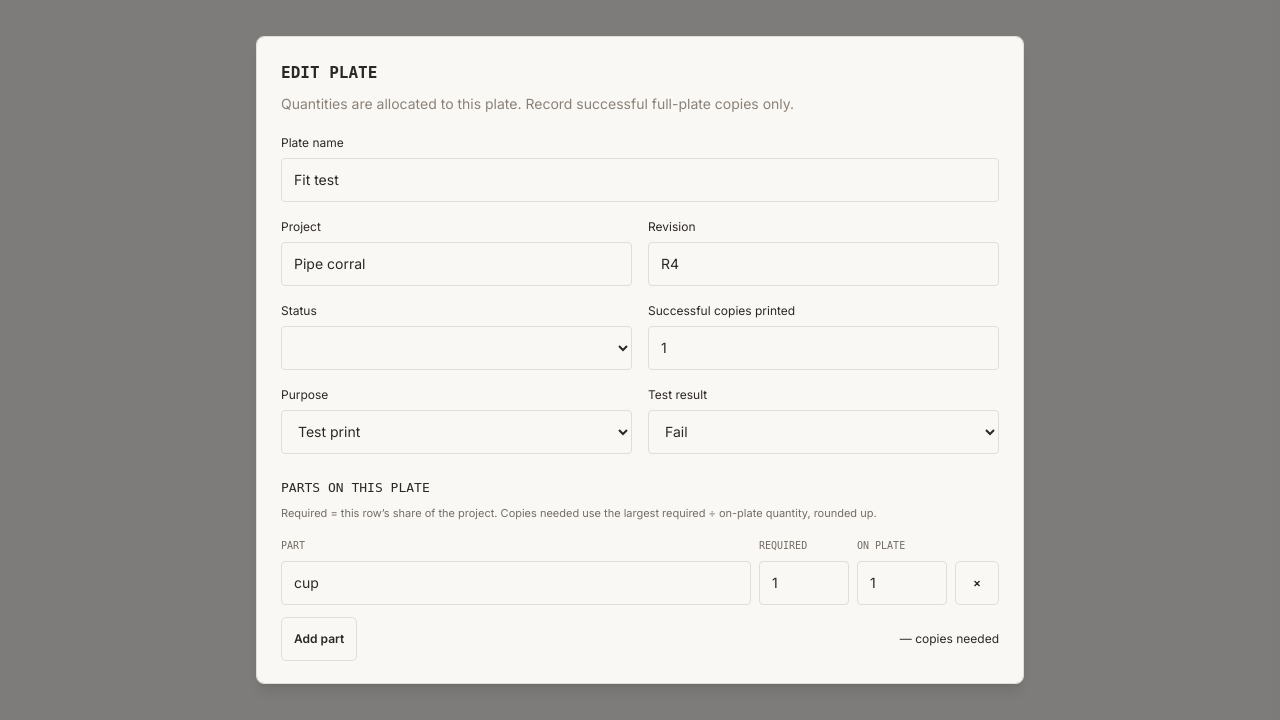
Test: keeps a set test result visible after printed drops to 0 so it can be cleared
Replace the text in the number field labelled "Successful copies printed" with "0" at x=824, y=348, box [648, 326, 999, 370]
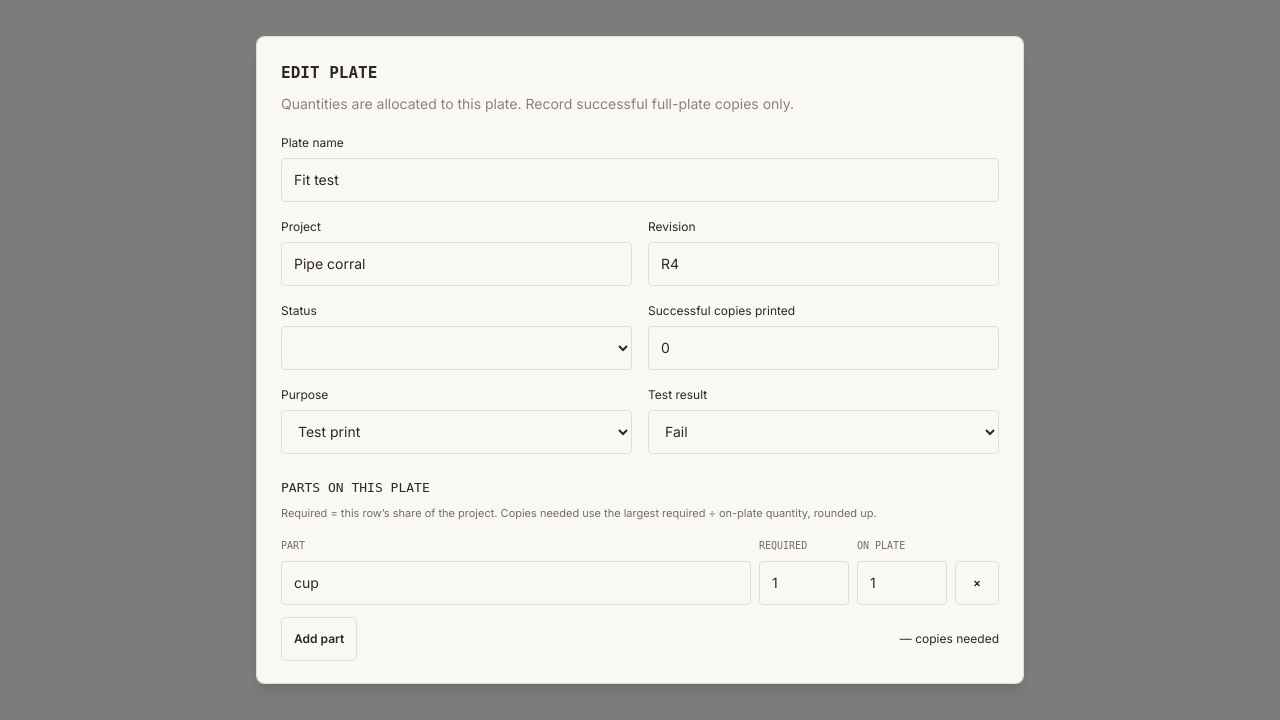
Select "Awaiting result" in the dropdown labelled "Test result" at x=824, y=432, box [648, 410, 999, 454]
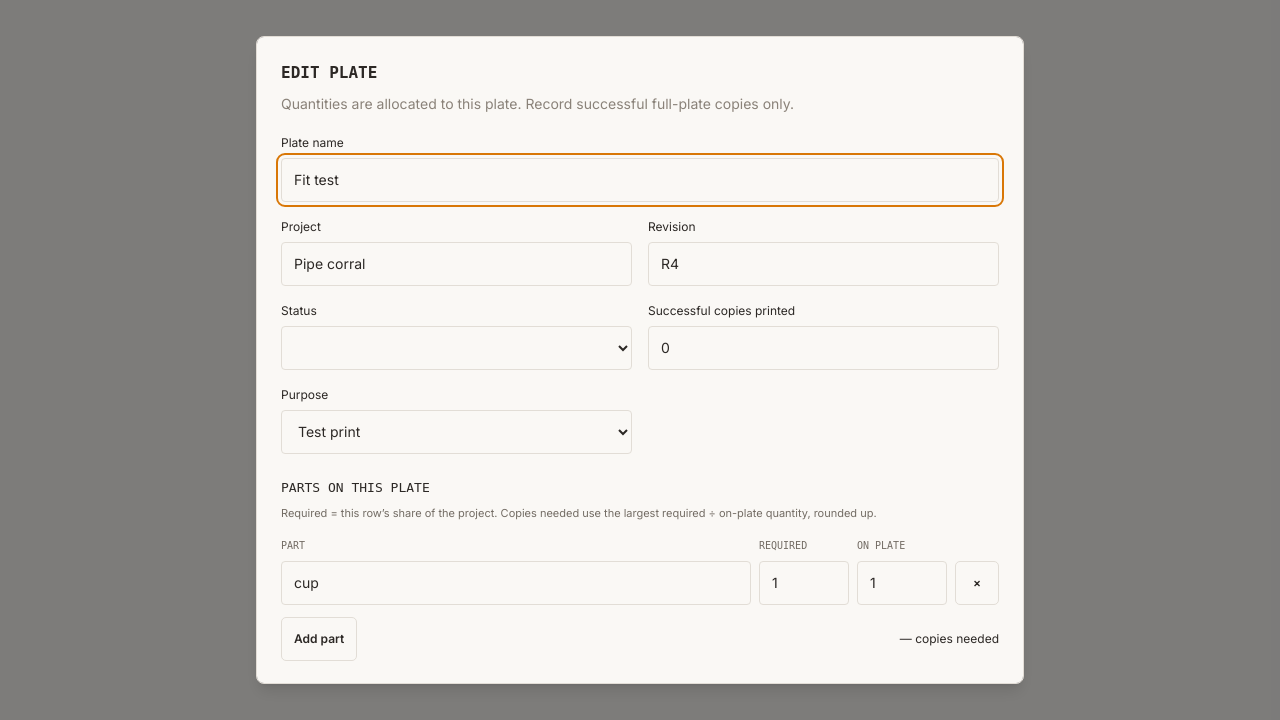
Expected: the label labelled "Test result" is gone
